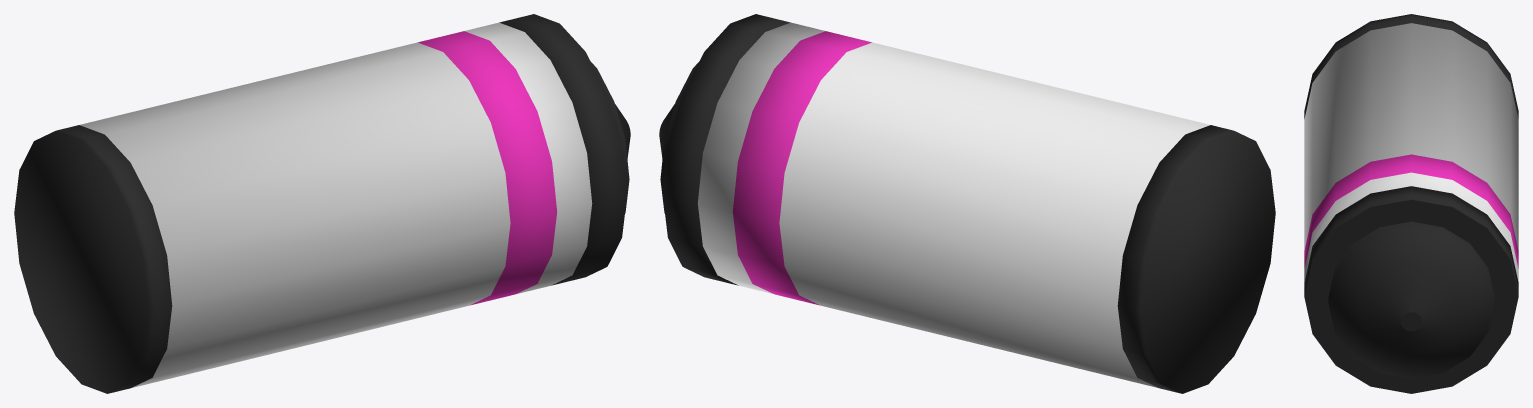
File: LIDAR2.fbx
3 views of the same model, side by side, from view 1: azimuth 30°, elevation 25°; view 2: azimuth 150°, elevation 25°; view 3: azimuth 270°, elevation 25° (orthographic). The views are drawn at different scales.
Visible parts, largest first — view 1: LIDARGlass, LIDARBody; view 2: LIDARGlass, LIDARBody; view 3: LIDARBody, LIDARGlass.
Boxes of the visible parts, x1,y1,x2,y2 form: LIDARGlass: [80, 22, 592, 387]; LIDARBody: [14, 14, 630, 393]; LIDARGlass: [697, 22, 1209, 387]; LIDARBody: [659, 14, 1275, 393]; LIDARBody: [1304, 14, 1518, 393]; LIDARGlass: [1304, 23, 1518, 281].
Bounding box in the file's own units: 465 × 200 × 200.
